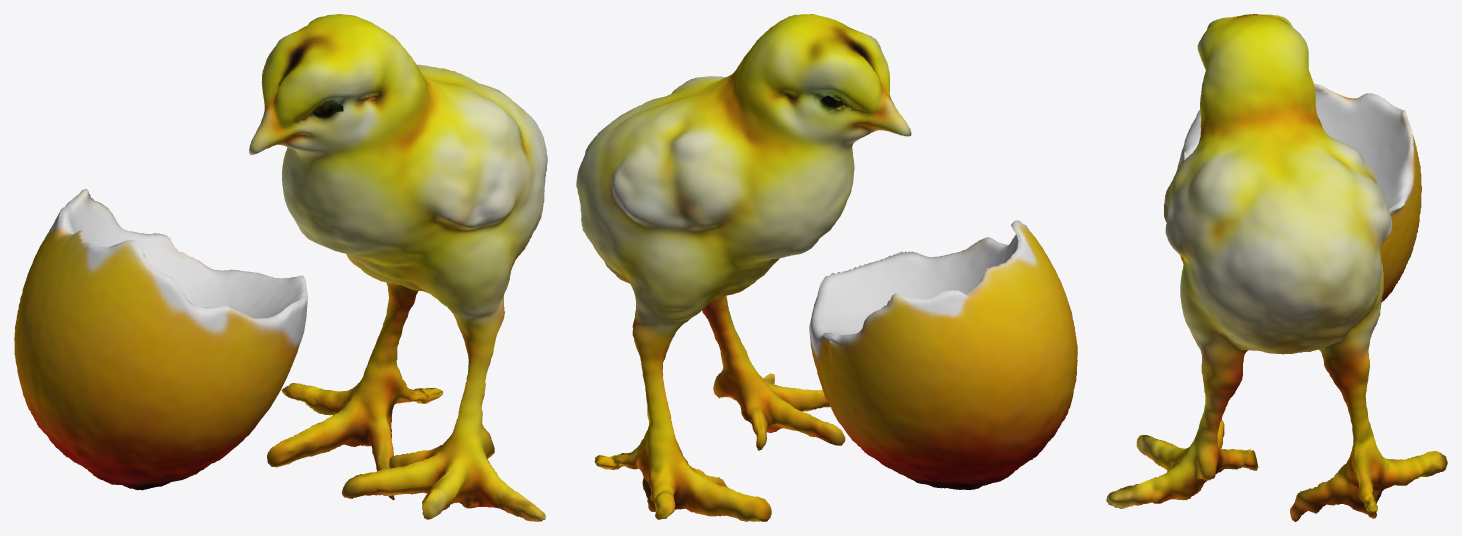
The model's file is 44855521_sept18_hero16_047a_DSLR_photo_of_an_eggshell_broken_in_two_with_an_adorable_chick_standing_next_to_it_1step.glb.
3 renders of one model, left to right at view 1: azimuth 30°, elevation 25°; view 2: azimuth 150°, elevation 25°; view 3: azimuth 270°, elevation 25°, orthographic. The views are drawn at different scales.
Parts seen in each view (by area): view 1: world; view 2: world; view 3: world.
Boxes of the visible parts, <box> form: world: <box>14,14,547,521</box>; world: <box>576,14,1077,521</box>; world: <box>1106,14,1447,521</box>.
Bounding box in the file's own units: 5.11 × 5.02 × 3.33.
